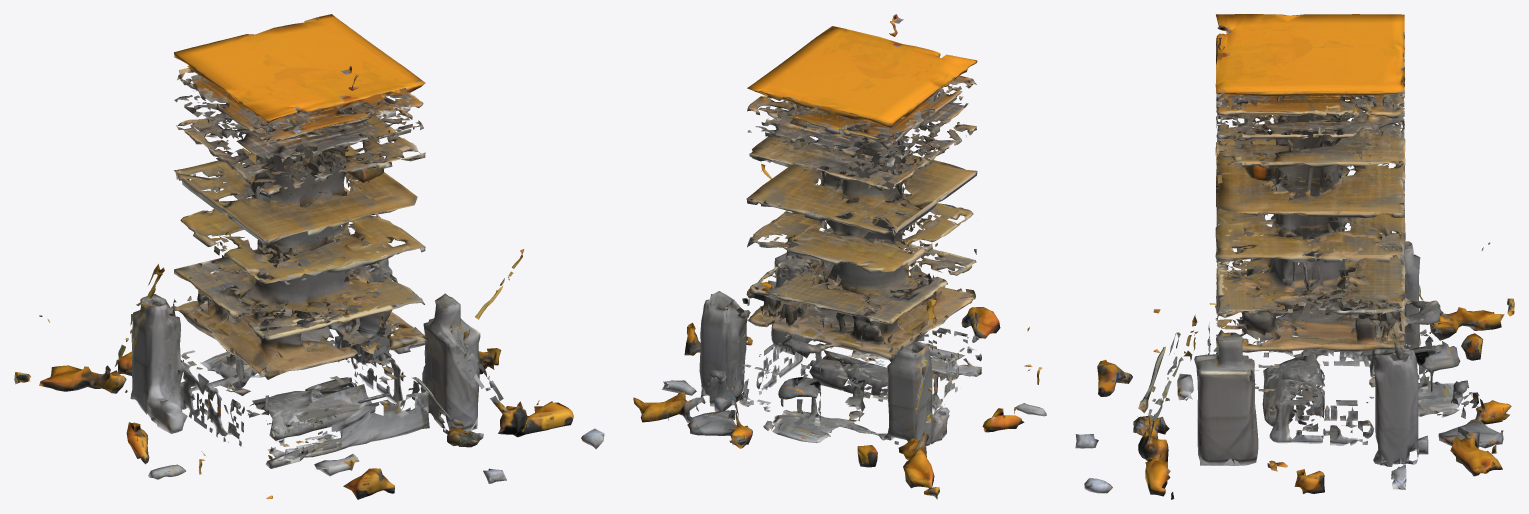
The model's file is scof2.glb.
The picture shows the model from 3 angles, left to right: view 1: azimuth 30°, elevation 25°; view 2: azimuth 150°, elevation 25°; view 3: azimuth 270°, elevation 25°; orthographic projection. The views are drawn at different scales.
Bounding box in the file's own units: 1.99 × 1.91 × 1.98.
Materials: 1 (1 with a texture image).
